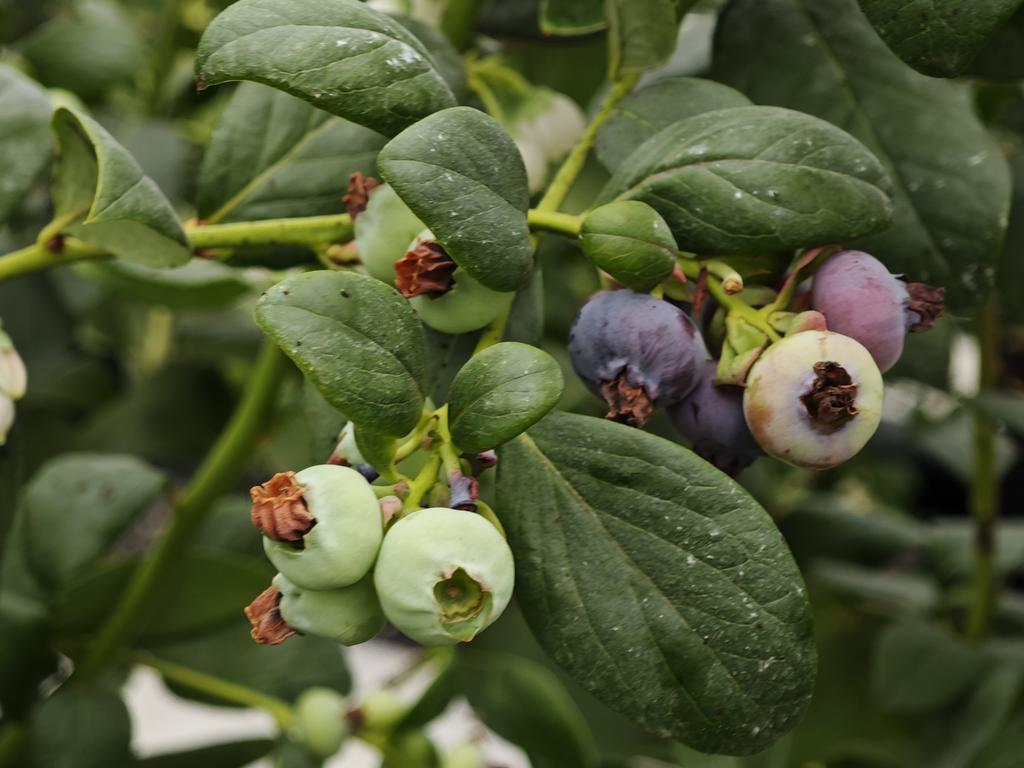RipeBlueBerry: (563, 285, 711, 415)
Semi-RipeBlueBerry: (812, 246, 922, 378)
UnripeBlueBerry: (376, 501, 521, 647), (743, 327, 888, 472), (250, 461, 385, 593)
